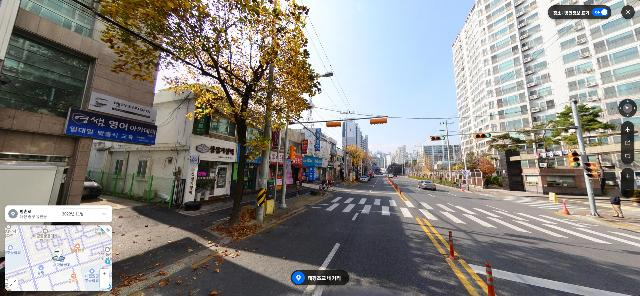ginkgo: (92, 0, 323, 227), (341, 145, 363, 183)
other: (551, 100, 612, 191), (509, 119, 556, 168), (484, 135, 519, 173), (475, 154, 495, 186), (464, 149, 479, 171)
